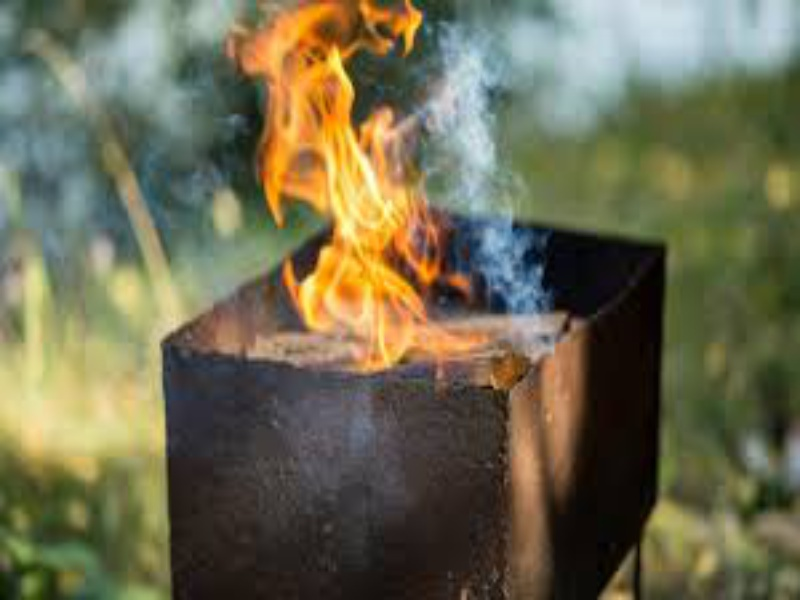fire: (256, 1, 441, 342)
